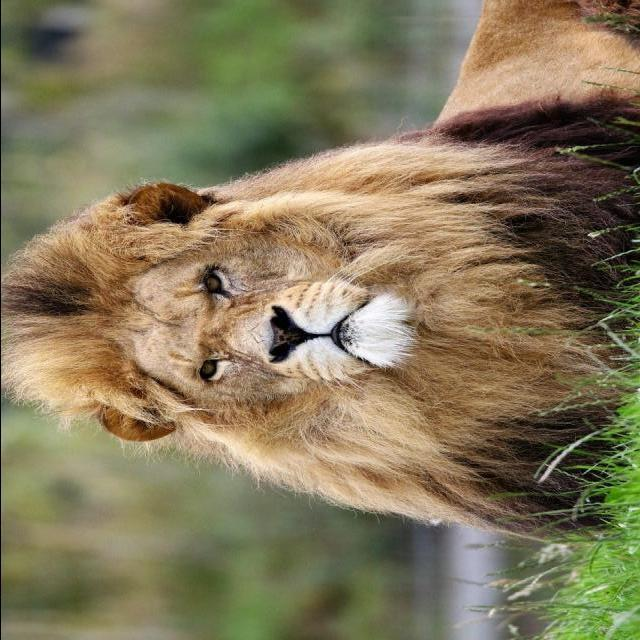lions: (2, 0, 639, 640)
